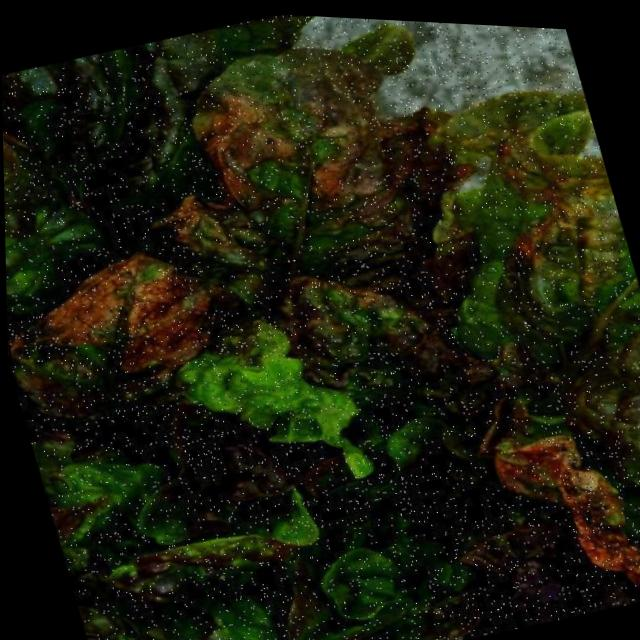Bad: (184, 21, 640, 467), (48, 254, 347, 425)
